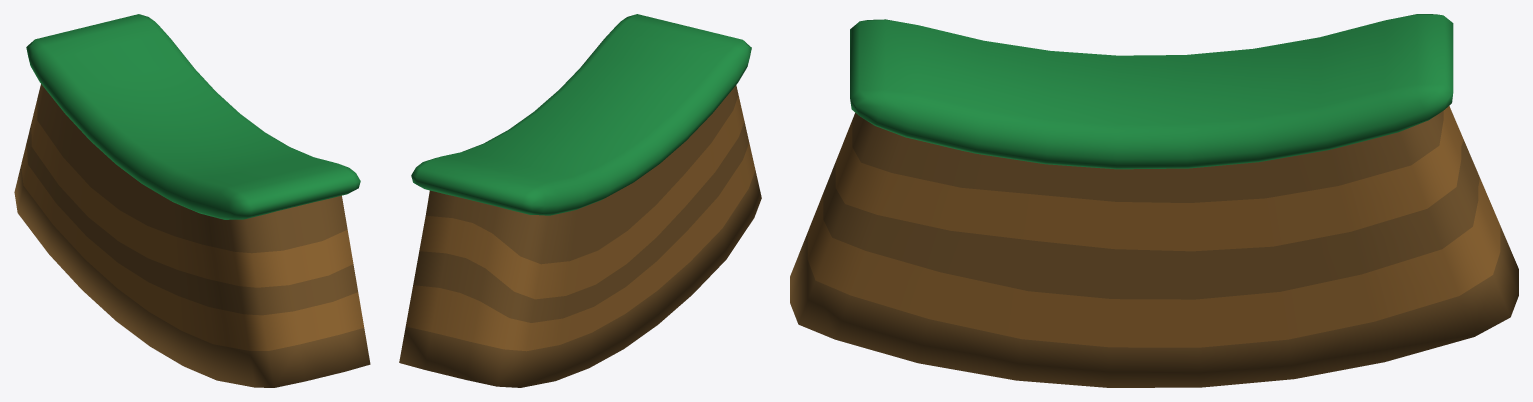
File: Plateforme_Rectangle_Creuse.fbx
The picture shows the model from 3 angles, left to right: view 1: azimuth 30°, elevation 25°; view 2: azimuth 150°, elevation 25°; view 3: azimuth 270°, elevation 25°; orthographic projection. The views are drawn at different scales.
Parts seen in each view (by area): view 1: Cube.026; view 2: Cube.026; view 3: Cube.026.
Part boxes in pixels (left/top/right/bottom): Cube.026: left=14, top=14, right=370, bottom=387; Cube.026: left=399, top=14, right=761, bottom=387; Cube.026: left=790, top=14, right=1518, bottom=387.
Bounding box in the file's own units: 499 × 786 × 1740.
